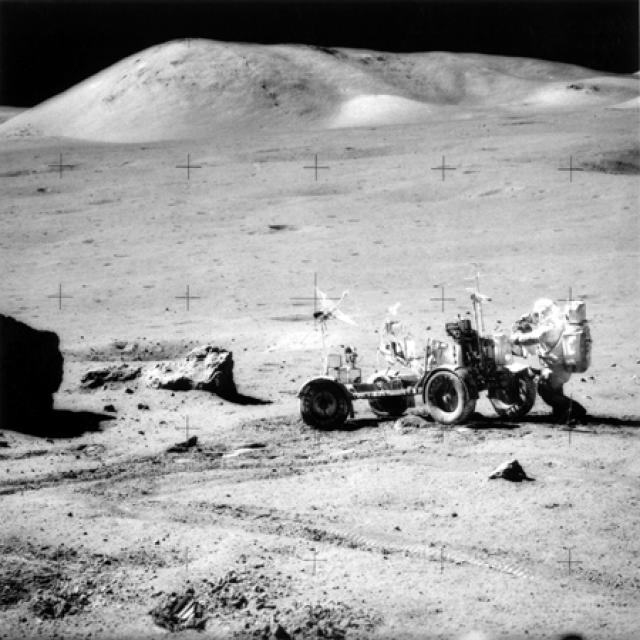artifact: (301, 266, 598, 435)
crater: (64, 330, 251, 358), (235, 140, 452, 164), (2, 218, 104, 252), (580, 134, 639, 186), (369, 185, 485, 205), (263, 183, 361, 203), (237, 216, 303, 240), (2, 160, 77, 179)
rock: (0, 313, 66, 422), (162, 344, 241, 404), (483, 445, 531, 485)
